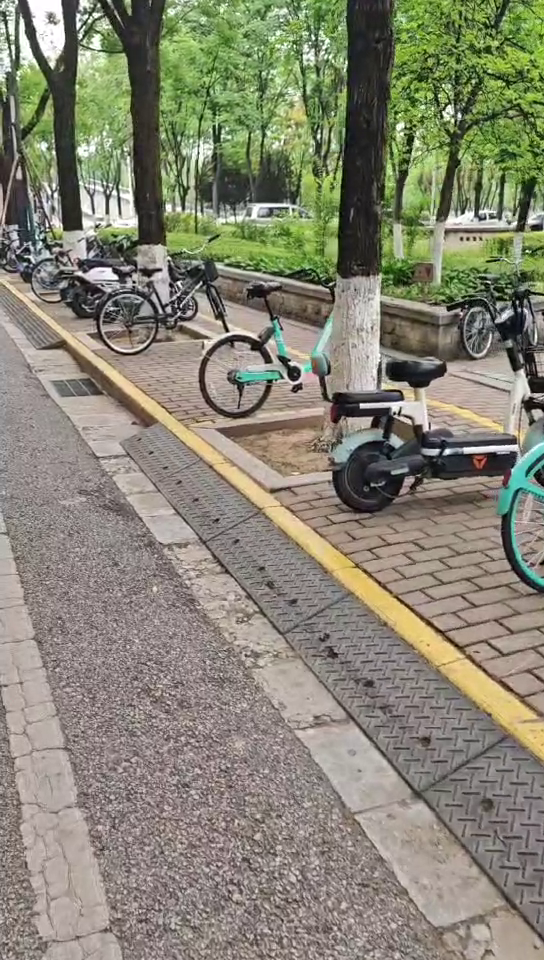others: (333, 274, 536, 492), (101, 246, 231, 358)
shared_bike_qingcong: (198, 259, 338, 416)
